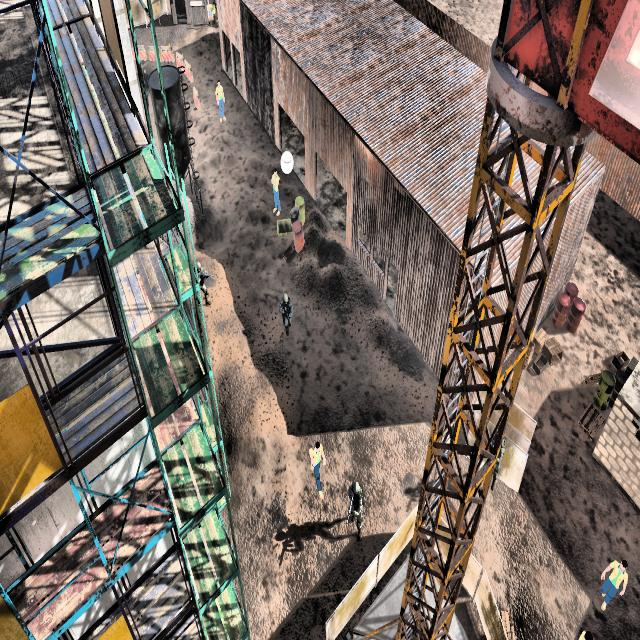bad: (342, 469, 368, 548), (276, 283, 298, 338), (196, 253, 213, 307)
good: (594, 539, 630, 625), (306, 428, 328, 508), (268, 155, 284, 218), (213, 73, 230, 129)
